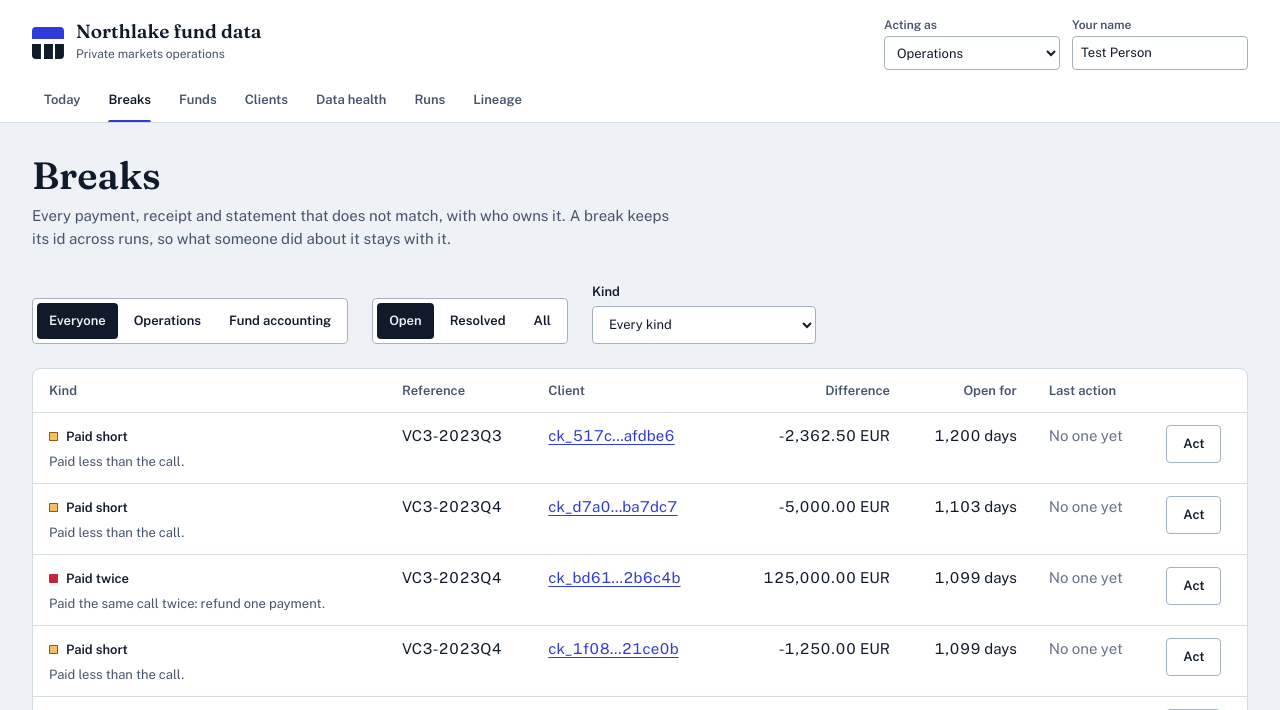
Test case: breaks › shows the API's refusal in the dialog
Click the button with aria-label "Act on".
click(1194, 444)  # box [1166,425,1222,463]
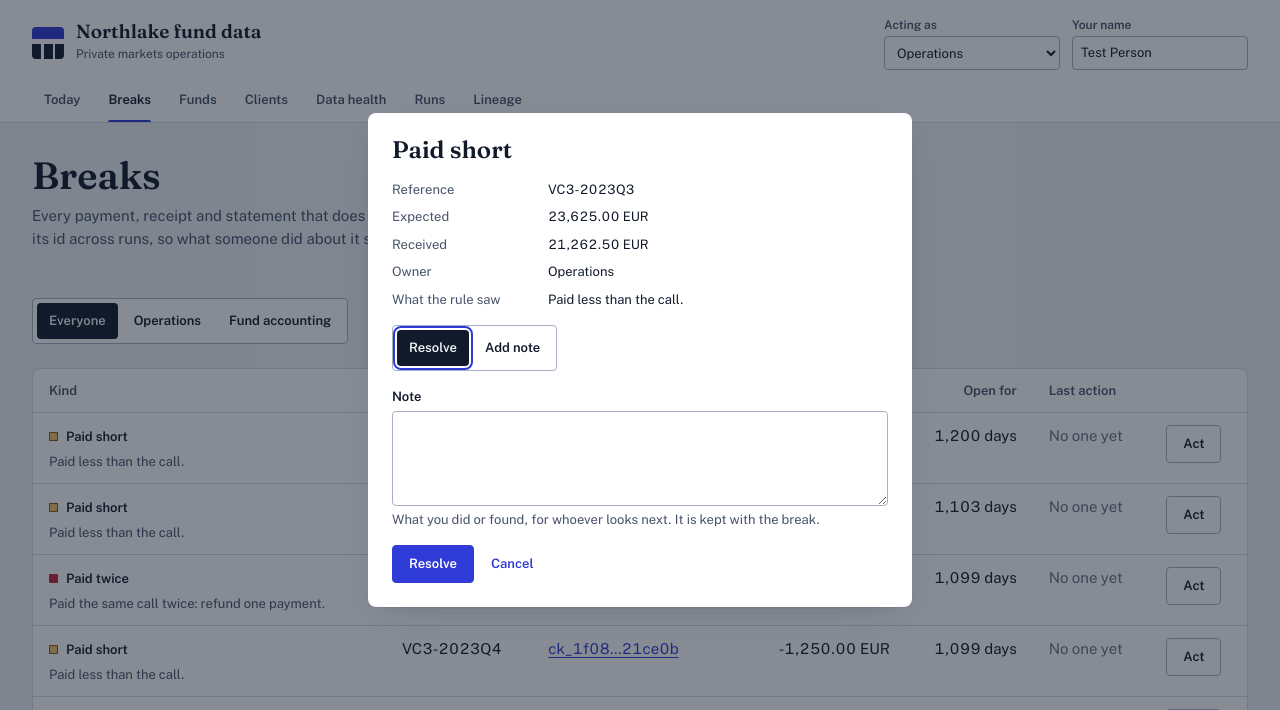
Type "checked" into the text box labelled "Note".
click(640, 458); type("checked")  # box [392,411,888,506]
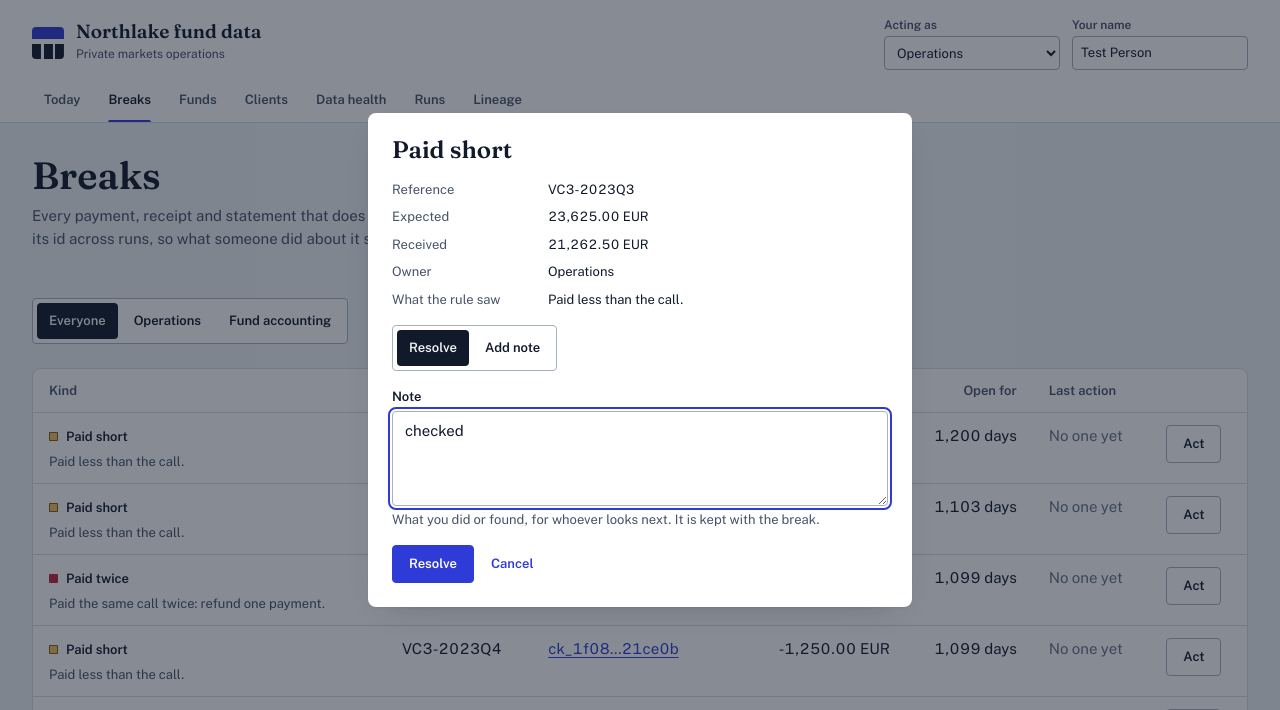
Click the button "Resolve".
click(433, 564)  # box [392,545,474,583]
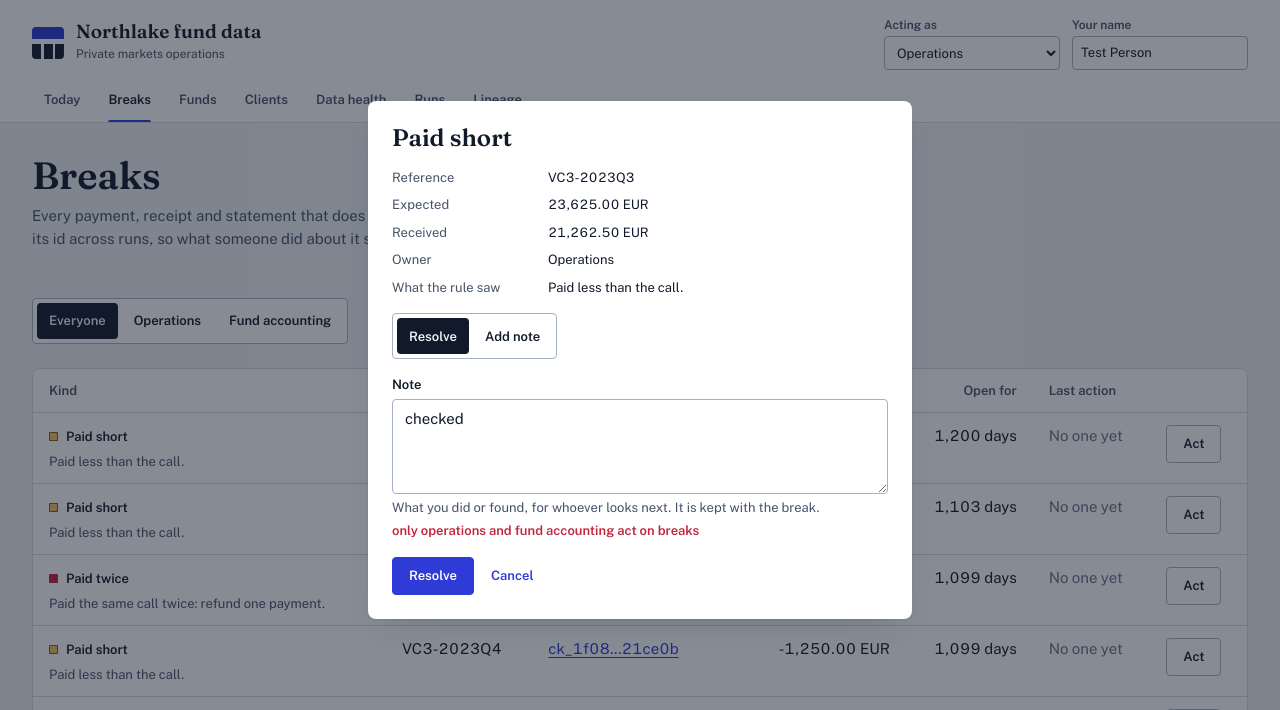
Expected: the text "only operations and fund accounting act on breaks" is shown, [392,523,699,538]
